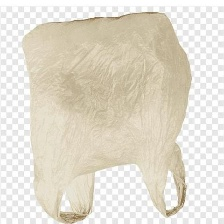plastic_bag: (17, 10, 196, 223)
